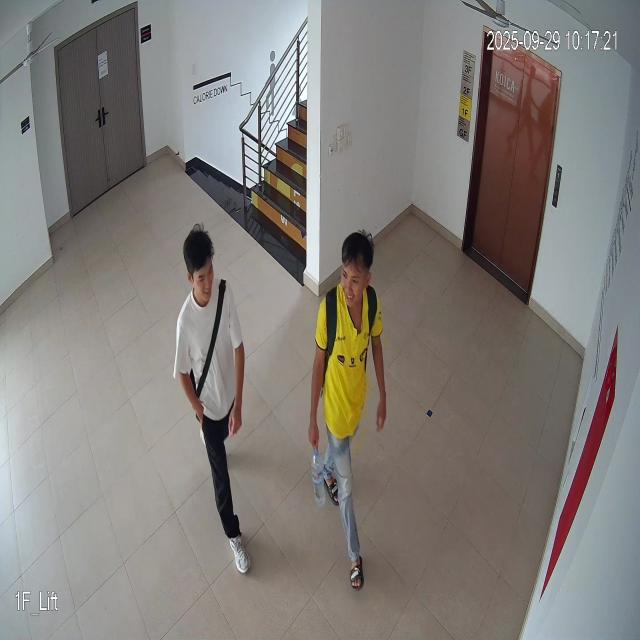face: (335, 226, 376, 316), (180, 220, 219, 306)
